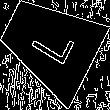L_NW: (23, 18, 76, 70)
